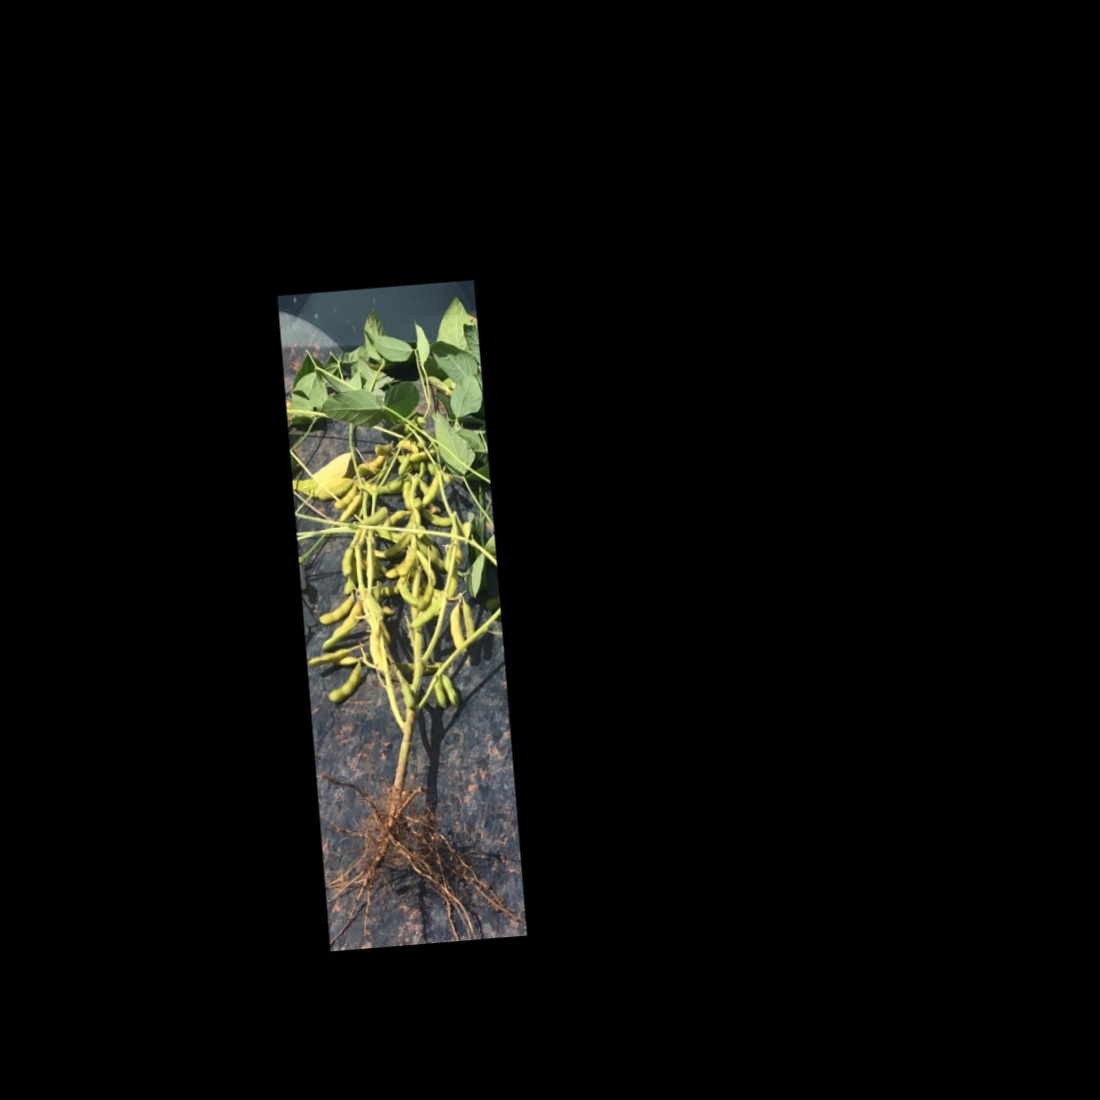pod: (317, 603, 366, 652), (323, 659, 367, 707), (407, 589, 450, 631), (314, 592, 357, 629), (306, 642, 362, 667), (416, 504, 458, 533), (417, 469, 445, 513), (336, 490, 368, 523), (440, 669, 462, 711), (332, 482, 361, 511), (461, 597, 479, 641), (416, 581, 437, 612), (431, 672, 447, 712), (398, 677, 416, 710)
soy: (284, 308, 523, 940)
